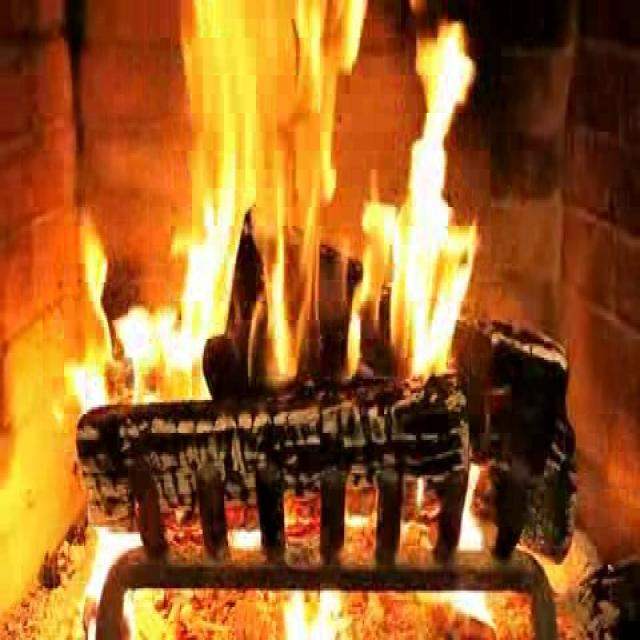fire: (144, 3, 475, 396)
